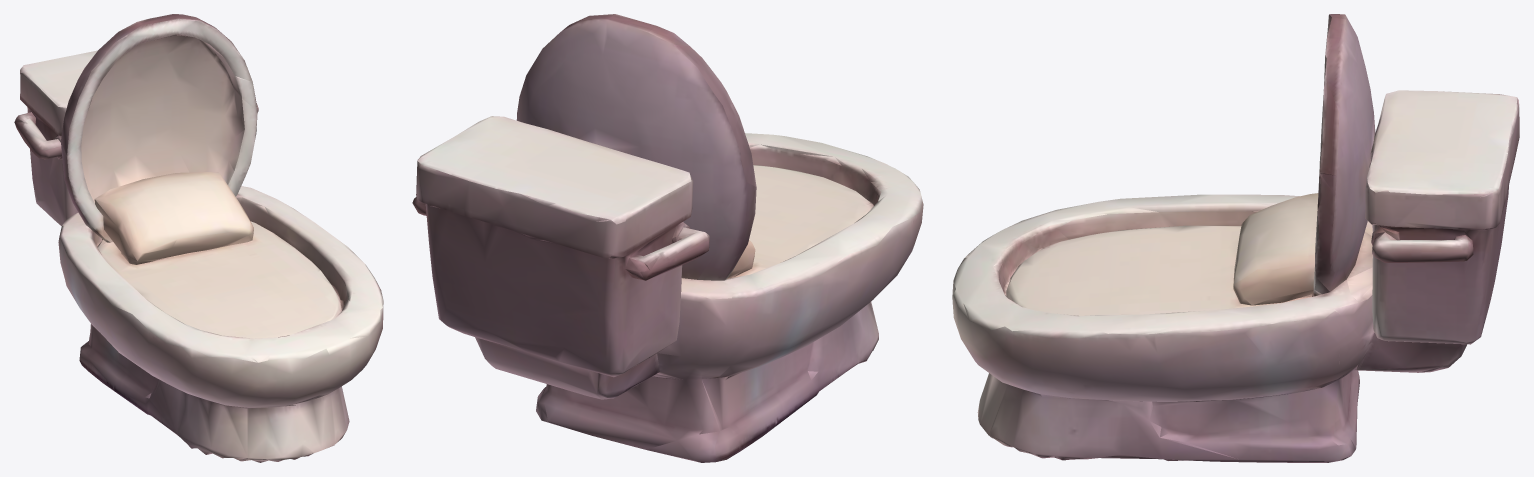
File: bed02.glb
3 views of the same model, side by side, from view 1: azimuth 30°, elevation 25°; view 2: azimuth 150°, elevation 25°; view 3: azimuth 270°, elevation 25° (orthographic). The views are drawn at different scales.
Size of the model in its own units: 0.1947 by 0.2559 by 0.3331.
1 material, 1 textured.
